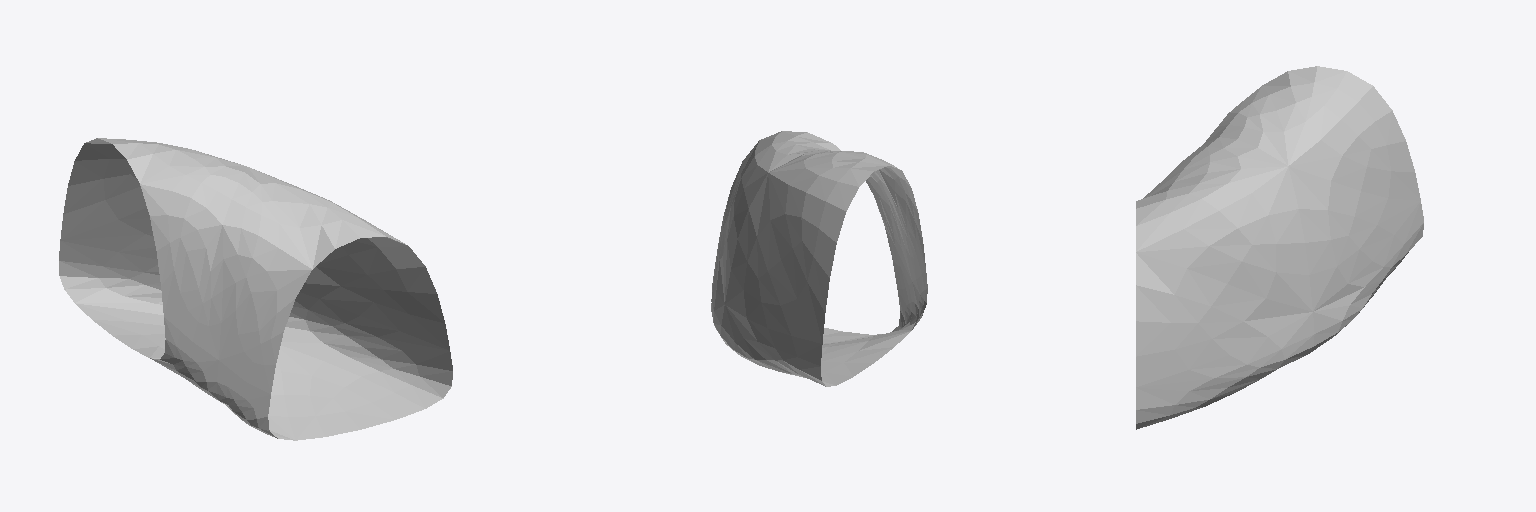
File: cave_901_2.obj
The picture shows the model from 3 angles: view 1: azimuth 30°, elevation 25°; view 2: azimuth 150°, elevation 25°; view 3: azimuth 270°, elevation 25°; orthographic projection.
Parts seen in each view (by area): view 1: cave_901_2_Cube.077; view 2: cave_901_2_Cube.077; view 3: cave_901_2_Cube.077.
Part boxes in pixels (left/top/right/bottom): cave_901_2_Cube.077: left=59, top=138, right=452, bottom=440; cave_901_2_Cube.077: left=711, top=131, right=927, bottom=386; cave_901_2_Cube.077: left=1136, top=66, right=1423, bottom=429.
Bounding box in the file's own units: 7.94 × 7.81 × 7.94.